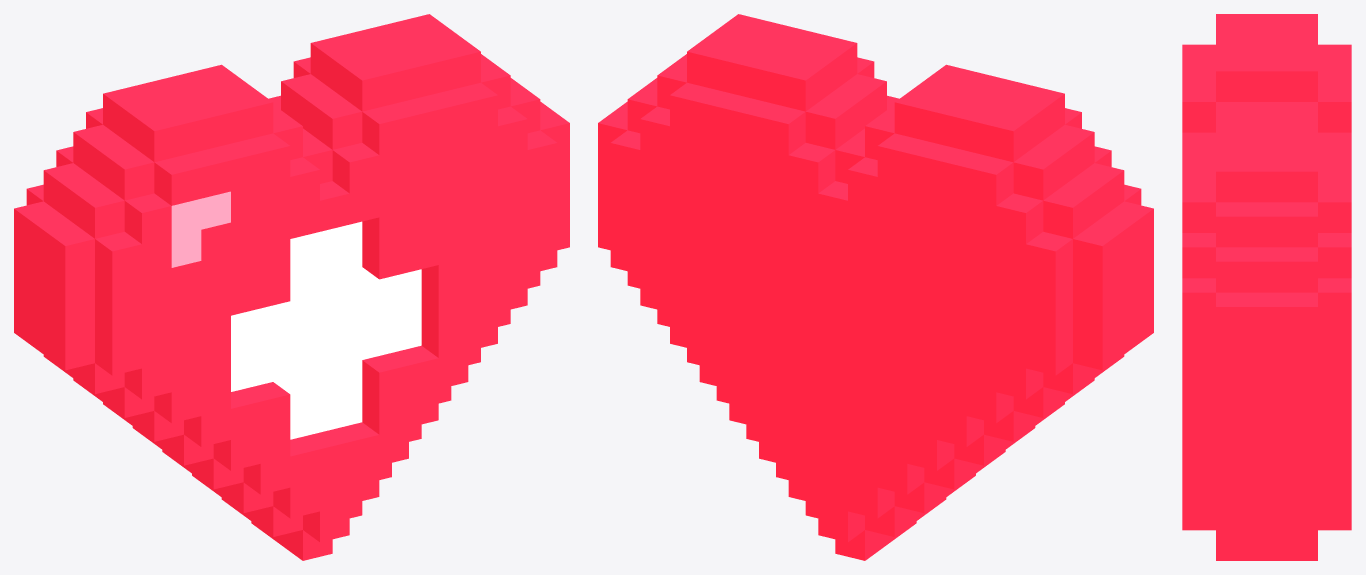
Rendered from fx_vitality.glb.
The picture shows the model from 3 angles, left to right: view 1: azimuth 30°, elevation 25°; view 2: azimuth 150°, elevation 25°; view 3: azimuth 270°, elevation 25°; orthographic projection.
Visible parts, largest first — view 1: heart_mesh_heart_red, cross_mesh_heart_white, heart_mesh_heart_pink; view 2: heart_mesh_heart_red; view 3: heart_mesh_heart_red.
Part boxes in pixels (x1,y1,x2,y2): heart_mesh_heart_red: [14, 14, 569, 560]; cross_mesh_heart_white: [231, 221, 421, 439]; heart_mesh_heart_pink: [171, 191, 230, 267]; heart_mesh_heart_red: [598, 14, 1153, 560]; heart_mesh_heart_red: [1182, 14, 1351, 560].
Size of the model in its own units: 4.25 by 3.75 by 1.25.
